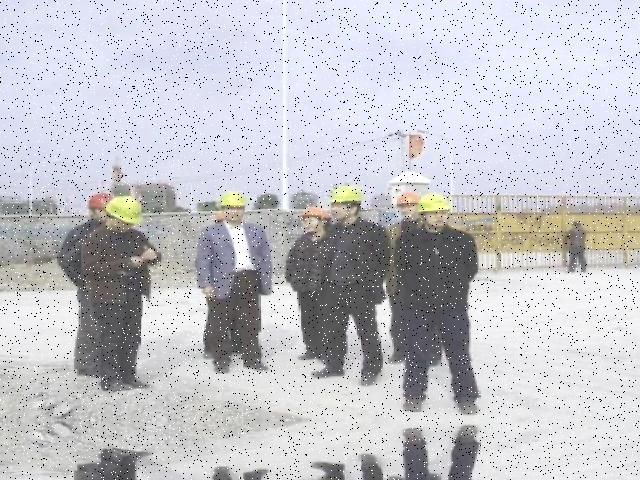Helmet: (101, 191, 145, 228), (413, 189, 452, 216), (321, 182, 364, 206), (212, 189, 248, 209), (292, 203, 328, 221), (389, 188, 419, 206), (83, 189, 107, 210)
